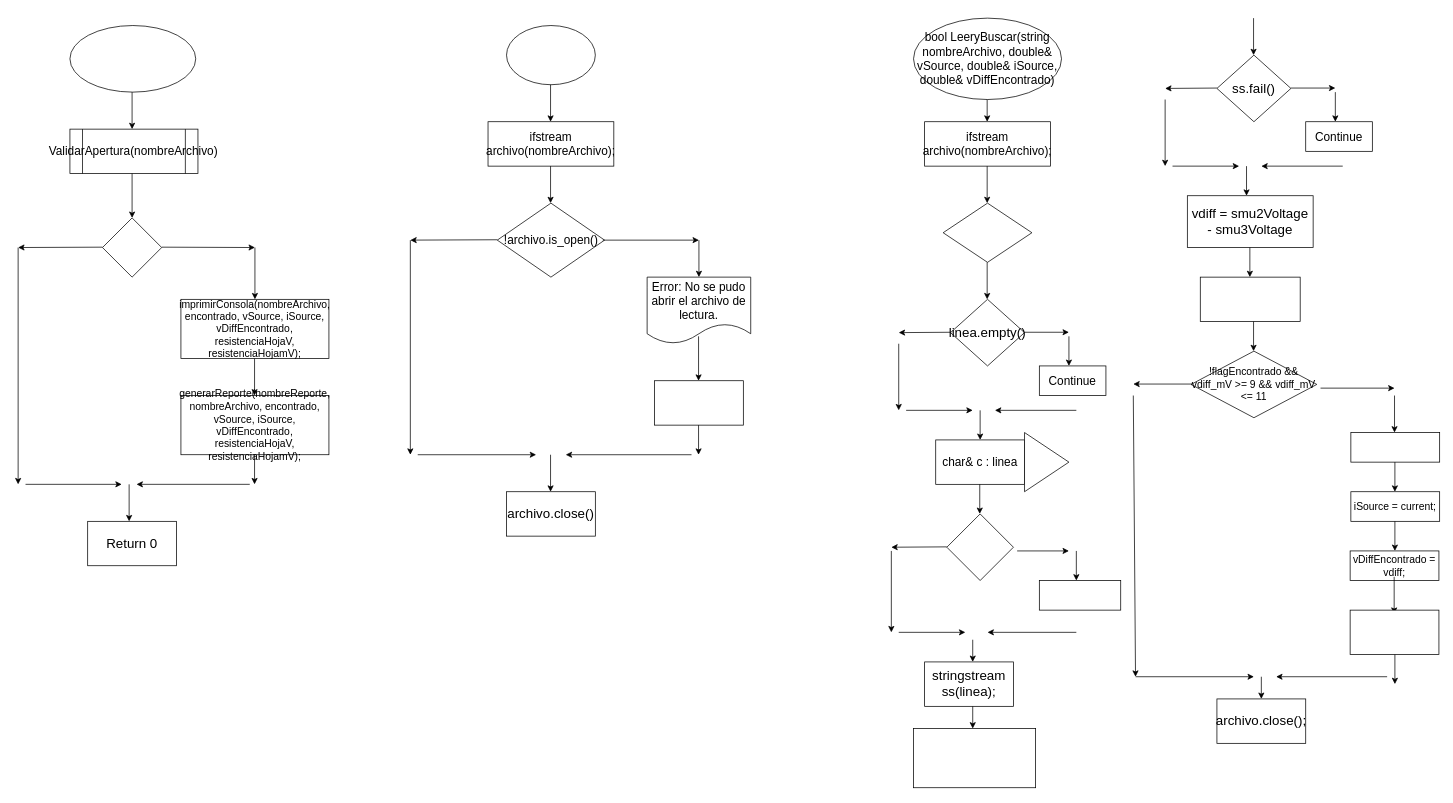
Some shapes in this 1453 by 803 pixel diagram are drawn without their labels. The shapes that lost their labels are listed below. From the top down, each one's centre as x and y in pixels, then its label:
At [132,58]: "INICIO".
At [550,55]: "void ValidarApertura(string nombreArchivo)".
At [132,247]: "estadoCalculo == 0".
At [987,232]: "getline(archivo, linea)".
At [1250,299]: "vdiff_mV = vdiff * 1000".
At [698,402]: "exit(1)".
At [1395,447]: "vSource = voltage;".
At [979,547]: "c == ','".
At [1080,595]: "c = '.'".
At [1394,632]: "flagEncontrado = true;".
At [974,758]: "ss >> smu3Voltage >> current >> voltage >> smu2Voltage".
